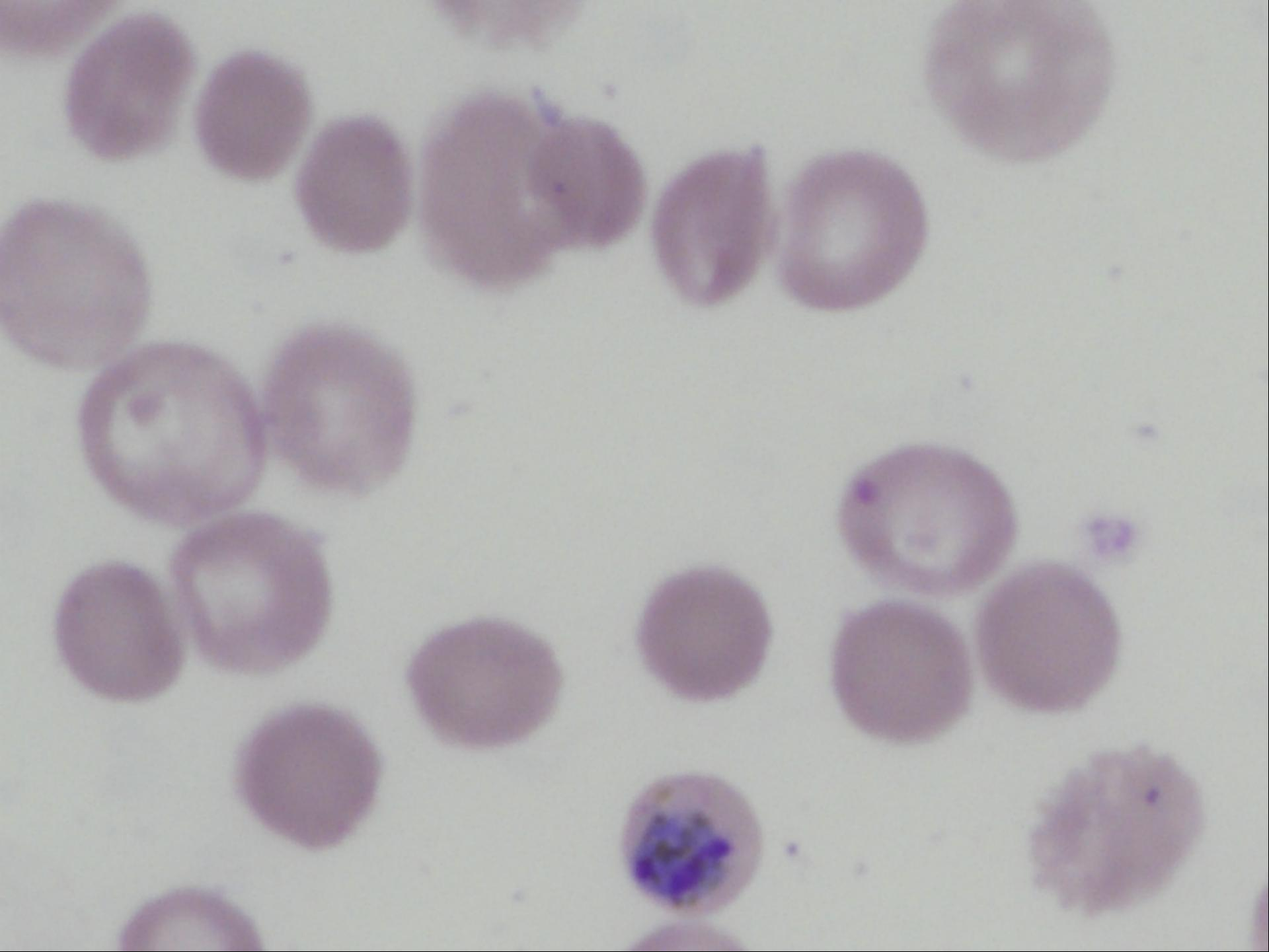Infected: (623, 771, 765, 923)
Uninfected: (79, 342, 261, 525), (925, 0, 1118, 162), (1027, 745, 1200, 918), (835, 439, 1015, 598), (260, 320, 413, 495), (167, 514, 330, 671), (423, 91, 557, 279), (773, 150, 928, 310), (0, 206, 150, 369), (238, 703, 377, 857), (831, 600, 975, 748), (978, 560, 1116, 710), (408, 613, 560, 745), (652, 146, 776, 303), (62, 14, 191, 157), (55, 562, 188, 698), (634, 567, 767, 702), (194, 47, 313, 185), (300, 113, 410, 253), (524, 122, 646, 245)
